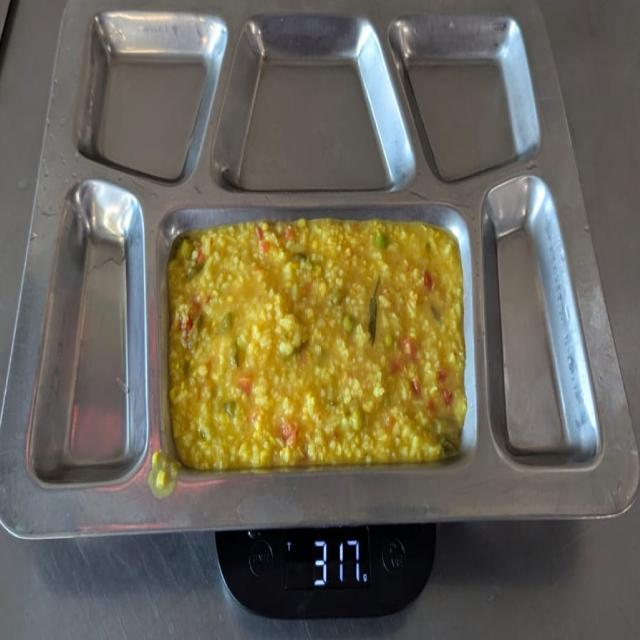Khichdi: (168, 215, 466, 468)
